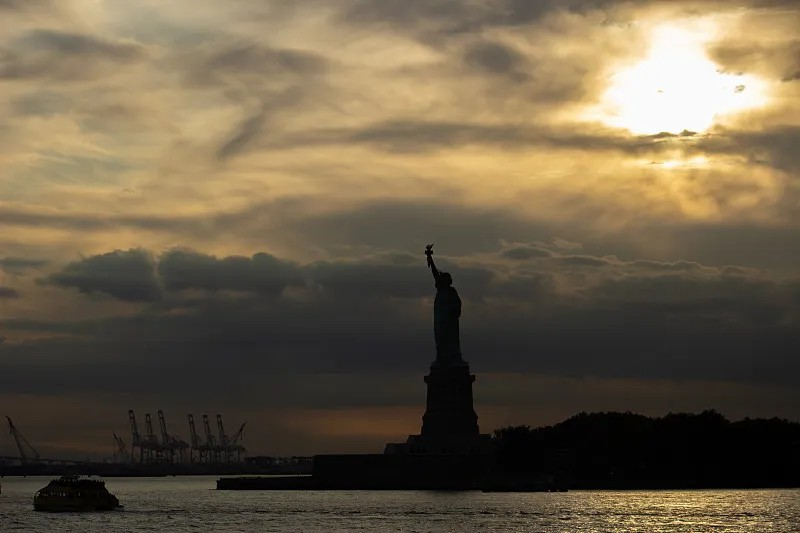SL: (421, 243, 479, 433)
